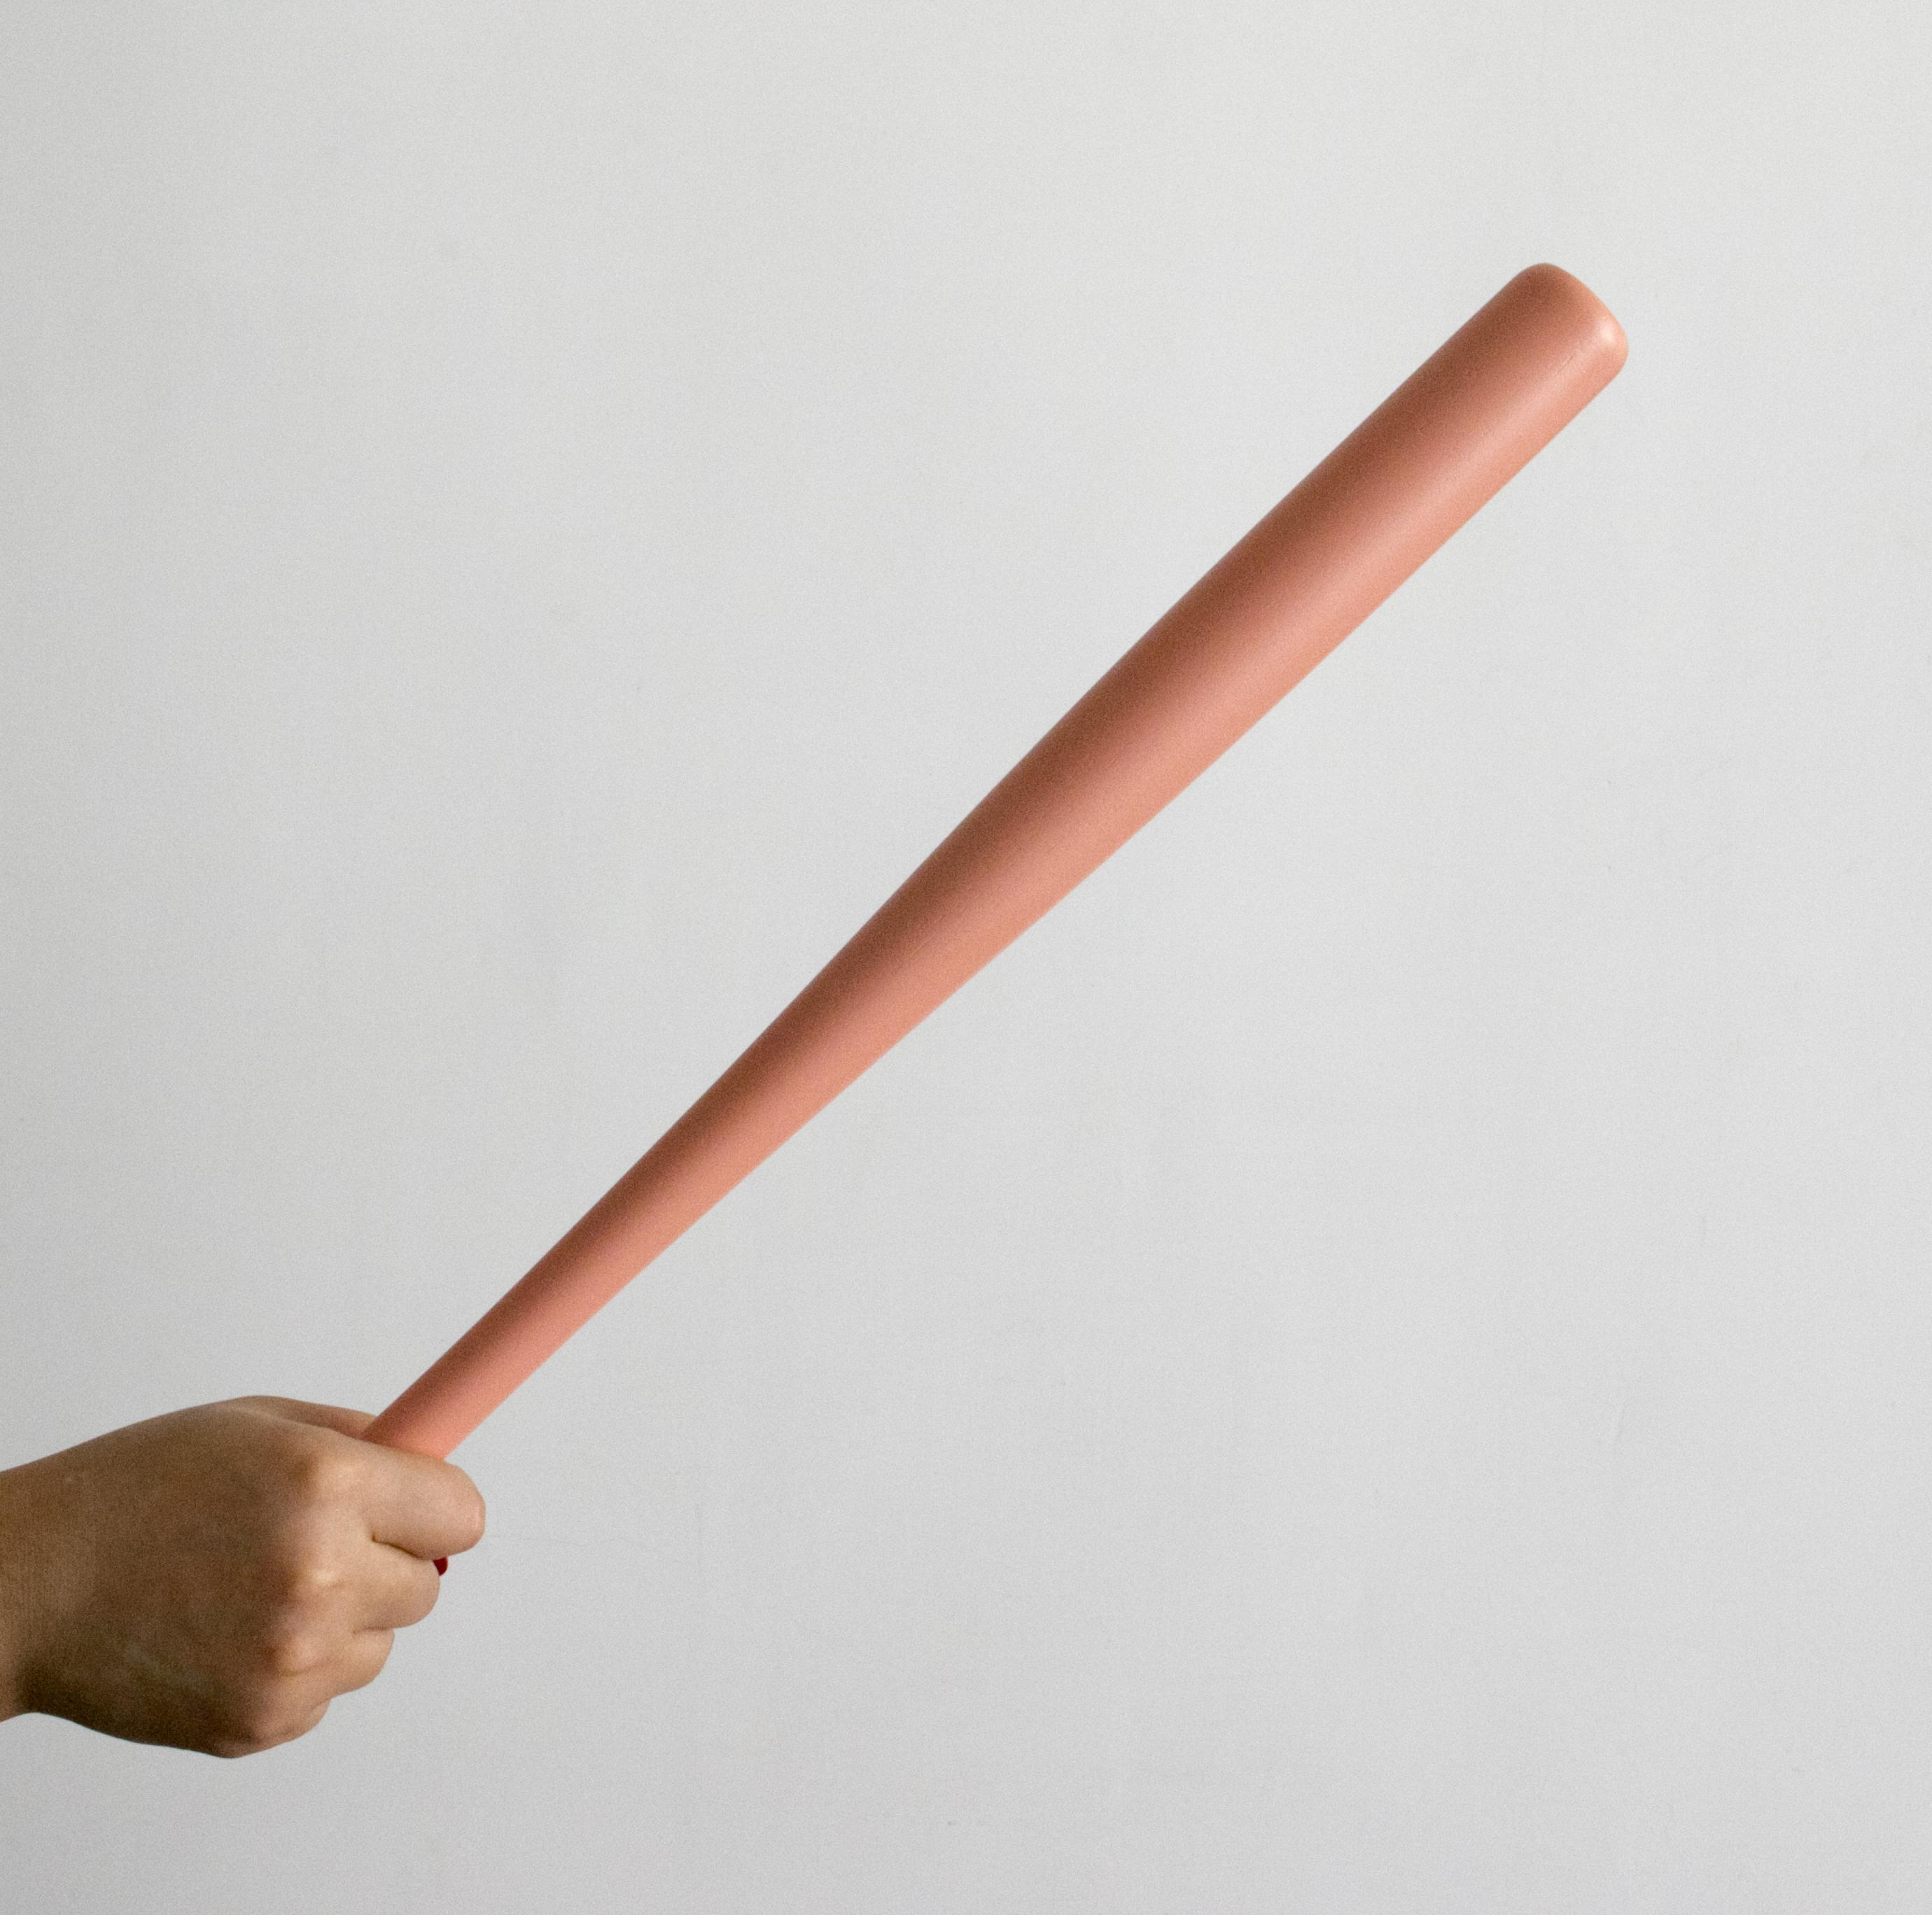Baseball-Bat: (477, 130, 1690, 1427)
